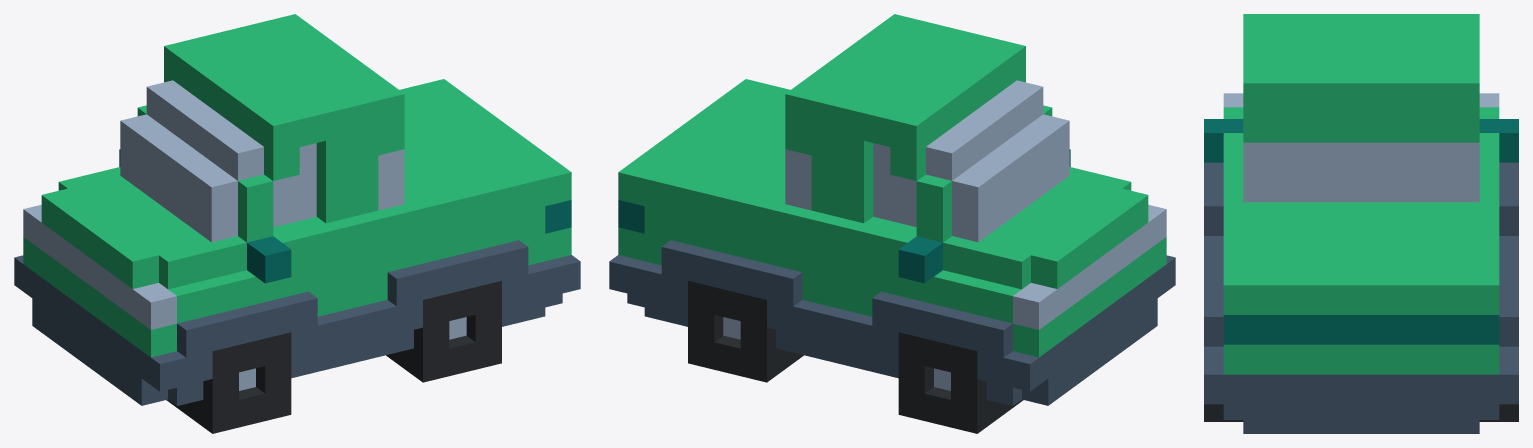
Rendered from truck_bare.fbx.
The picture shows the model from 3 angles, left to right: view 1: azimuth 30°, elevation 25°; view 2: azimuth 150°, elevation 25°; view 3: azimuth 270°, elevation 25°; orthographic projection. The views are drawn at different scales.
Visible parts, largest first — view 1: generated; view 2: generated; view 3: generated.
Part boxes in pixels (left/top/right/bottom): generated: left=14, top=14, right=580, bottom=433; generated: left=609, top=14, right=1175, bottom=433; generated: left=1204, top=14, right=1518, bottom=433.
Size of the model in its own units: 160 by 100 by 96.
